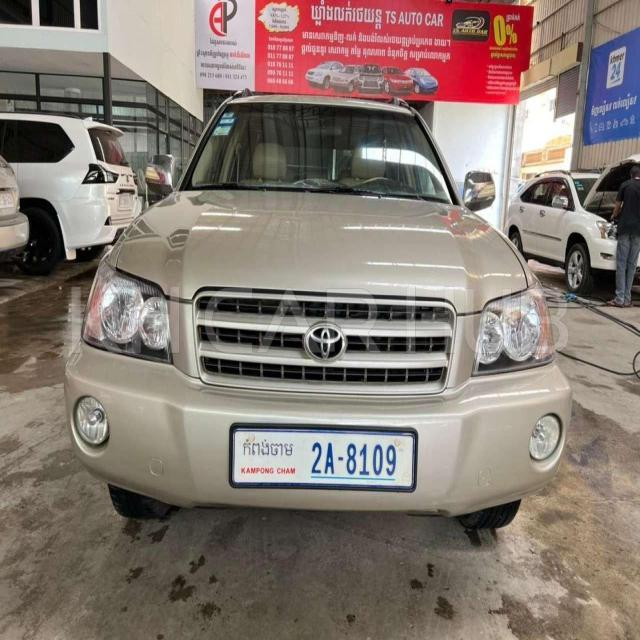Kampong_Cham: (242, 435, 295, 462)
